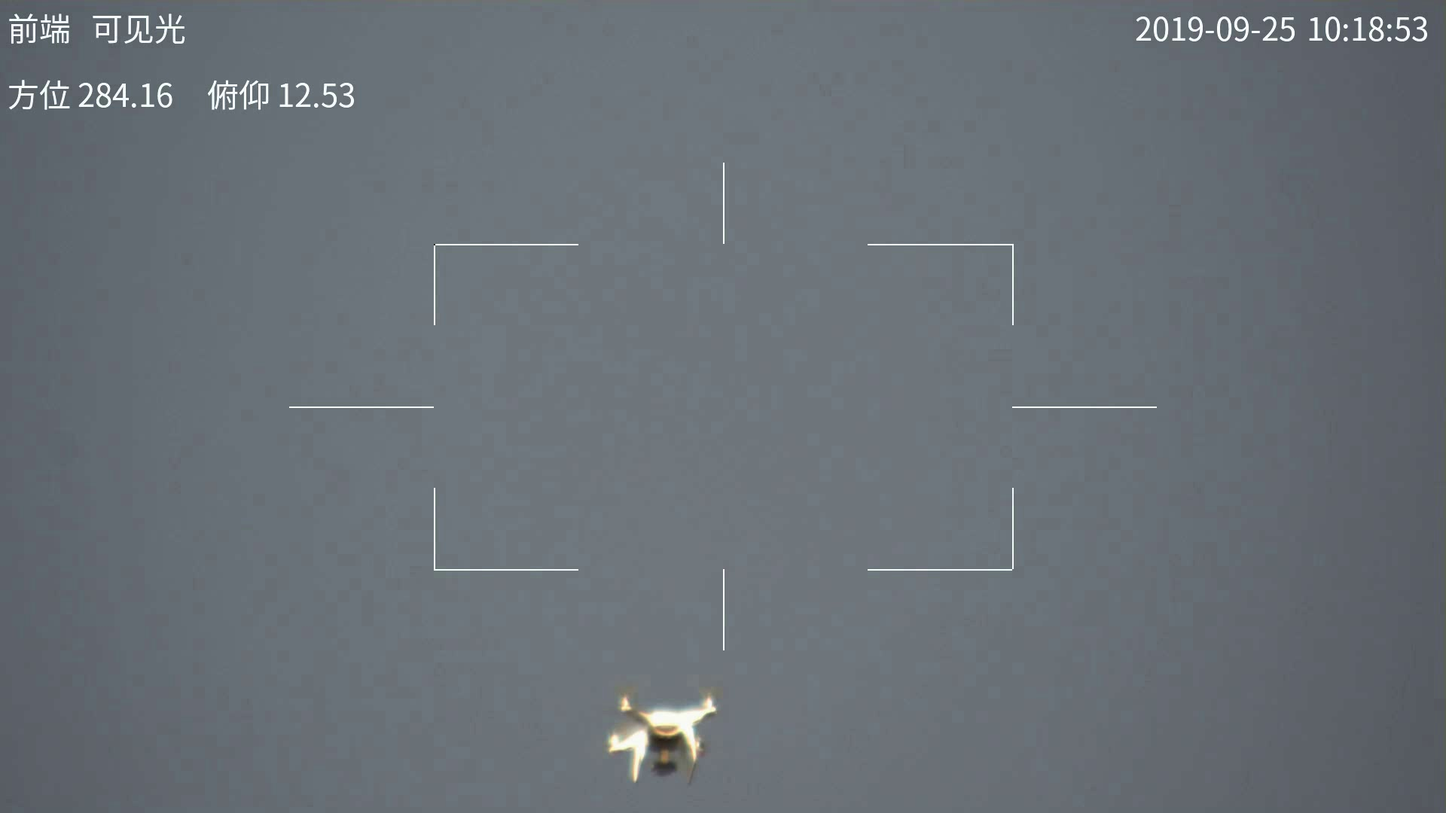drone_other: (602, 696, 719, 787)
